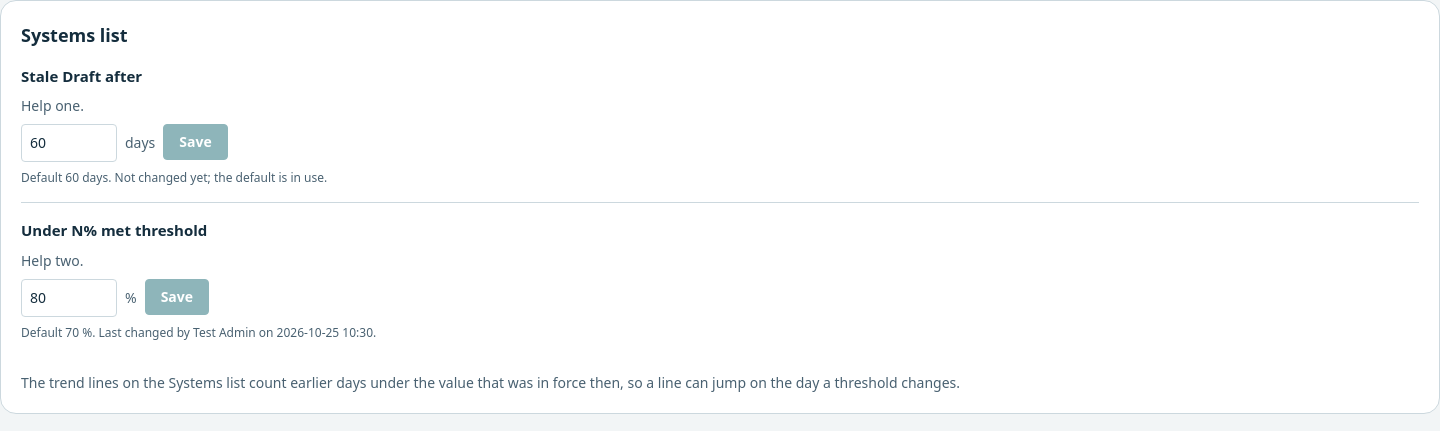
Test: AppSettingsForm (#240) › PATCHes the key and the number, then shows the saved value and who changed it
This screenshot has width=1440, height=431.
Replace the text in the field labelled "Stale Draft after" with "45": (69, 143) x1=21 y1=124 x2=117 y2=162
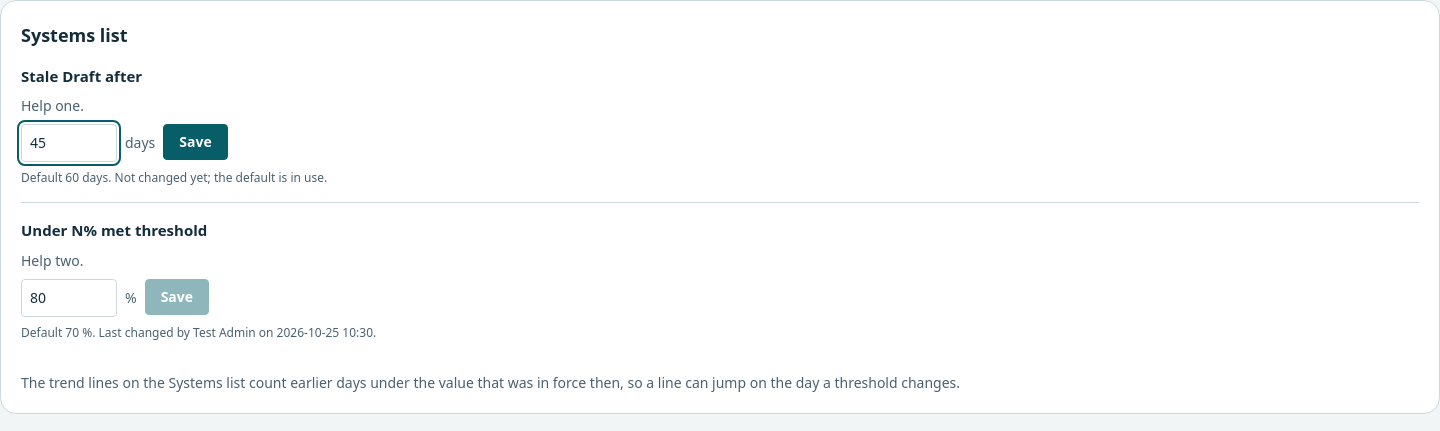
Click the button "Save" below "Stale Draft after": (196, 142) x1=163 y1=124 x2=228 y2=160
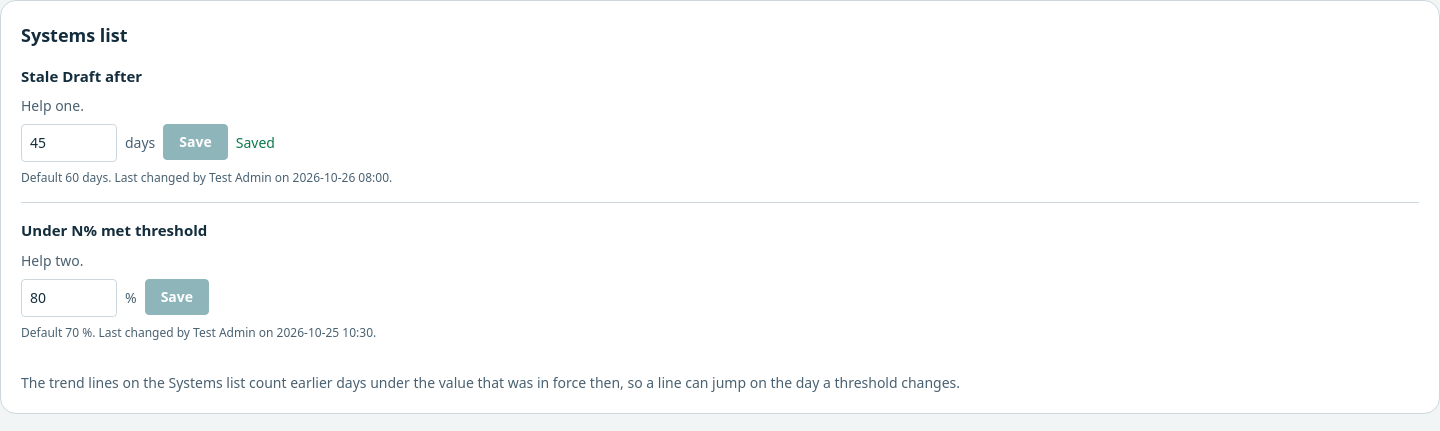
Check: the message reads "Saved", box x1=236 y1=133 x2=275 y2=152
Check: the text "Default 60 days. Last changed by Test Admin" is shown, box x1=21 y1=169 x2=392 y2=186
Check: the button "Save" next to "Saved" is disabled, box x1=163 y1=124 x2=228 y2=160
